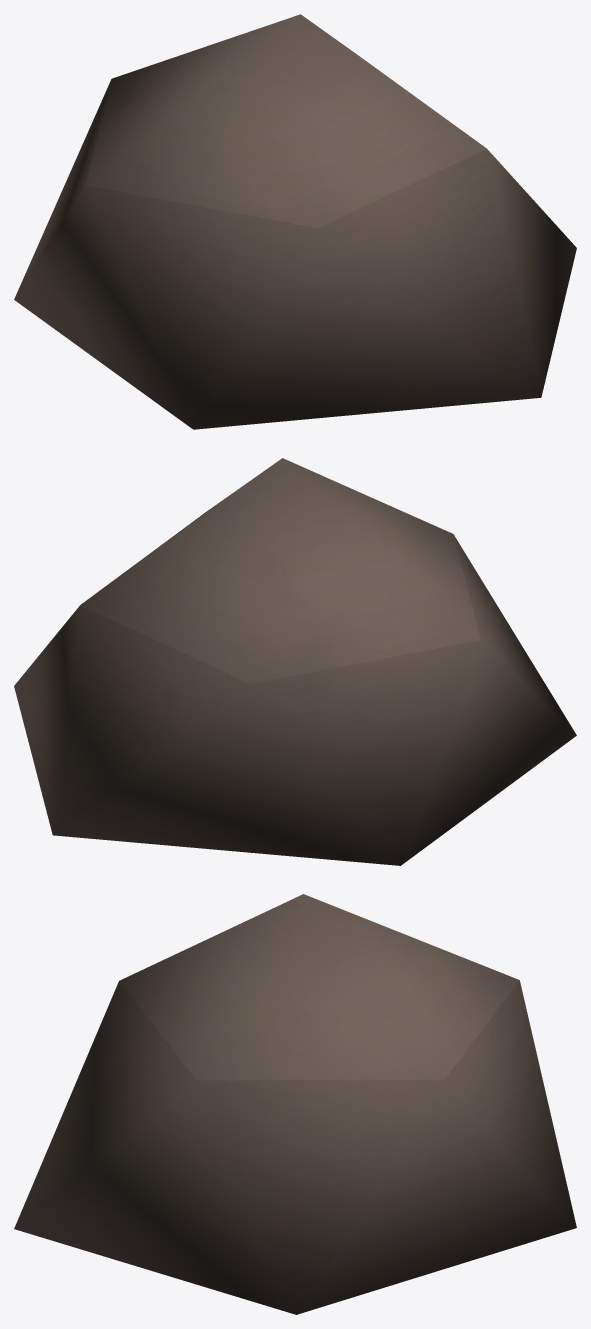
File: trash_B.glb
3 renders of one model, top to bottom at view 1: azimuth 30°, elevation 25°; view 2: azimuth 150°, elevation 25°; view 3: azimuth 270°, elevation 25°, orthographic. The views are drawn at different scales.
Visible parts, largest first — view 1: trash_B; view 2: trash_B; view 3: trash_B.
Boxes of the visible parts, box(x1,y1,x2,y2) form: trash_B: box(14, 14, 576, 429); trash_B: box(14, 458, 576, 865); trash_B: box(14, 894, 576, 1314).
Bounding box in the file's own units: 0.0681 × 0.0404 × 0.0708.
1 material, 1 textured.
